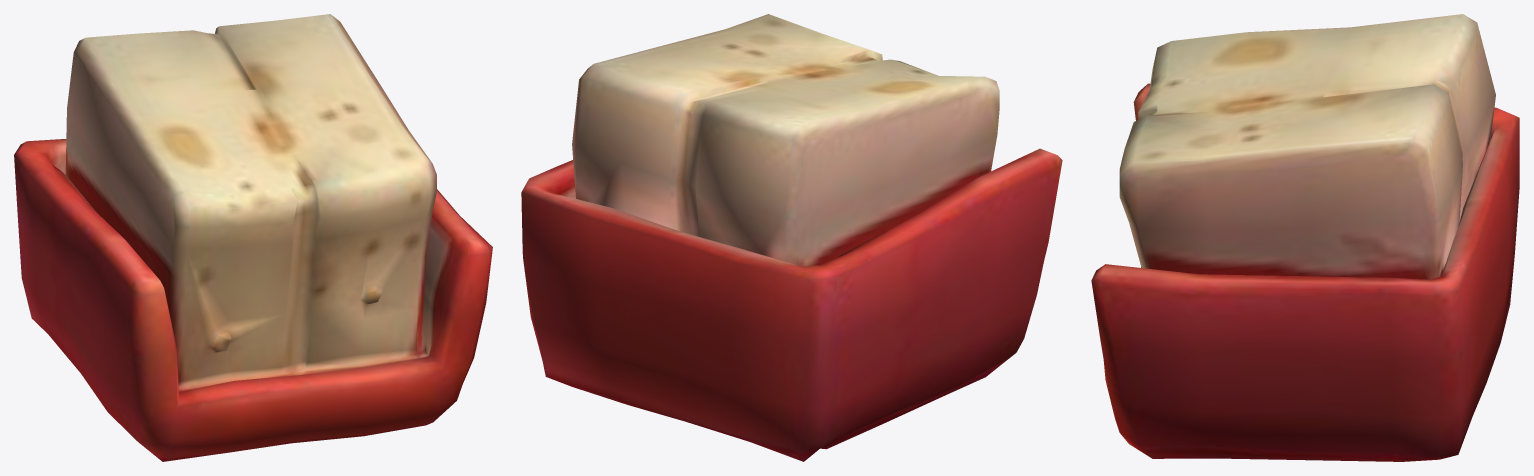
Rendered from tofu.glb.
3 views of the same model, side by side, from view 1: azimuth 30°, elevation 25°; view 2: azimuth 150°, elevation 25°; view 3: azimuth 270°, elevation 25° (orthographic). The views are drawn at different scales.
Visible parts, largest first — view 1: Tofu; view 2: Tofu; view 3: Tofu.
Part boxes in pixels (box(x1,y1,x2,y2)): Tofu: box(14, 14, 492, 461); Tofu: box(521, 14, 1062, 461); Tofu: box(1091, 14, 1519, 461).
Bounding box in the file's own units: 1.5 × 1.25 × 1.41.
1 material, 1 textured.
